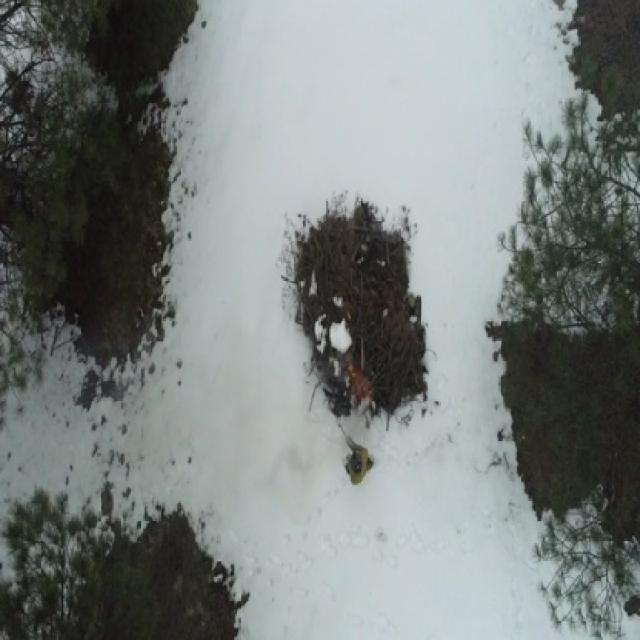Fire: (349, 363, 368, 402)
